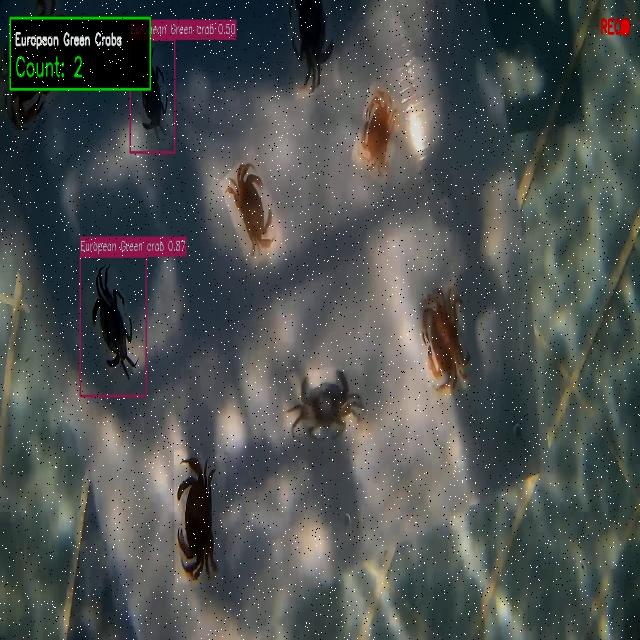European_Green_Crab: (81, 252, 153, 394), (283, 359, 364, 440), (283, 0, 343, 96), (127, 57, 176, 150)
